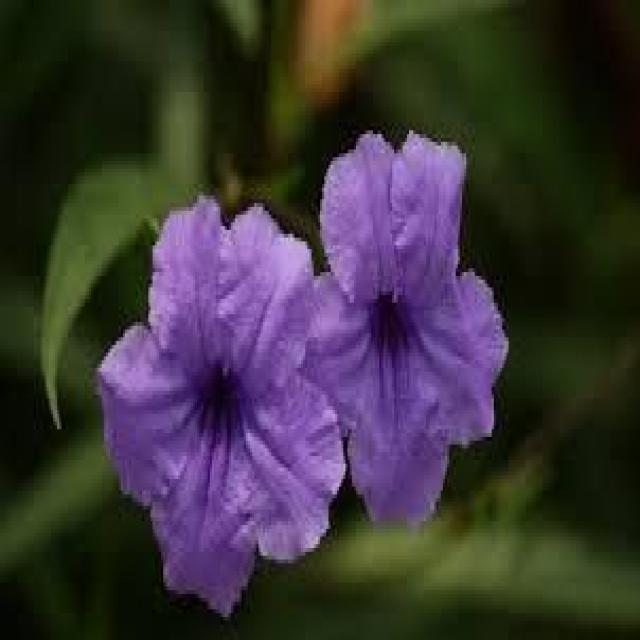organic waste: (98, 197, 344, 615), (299, 128, 513, 531)
